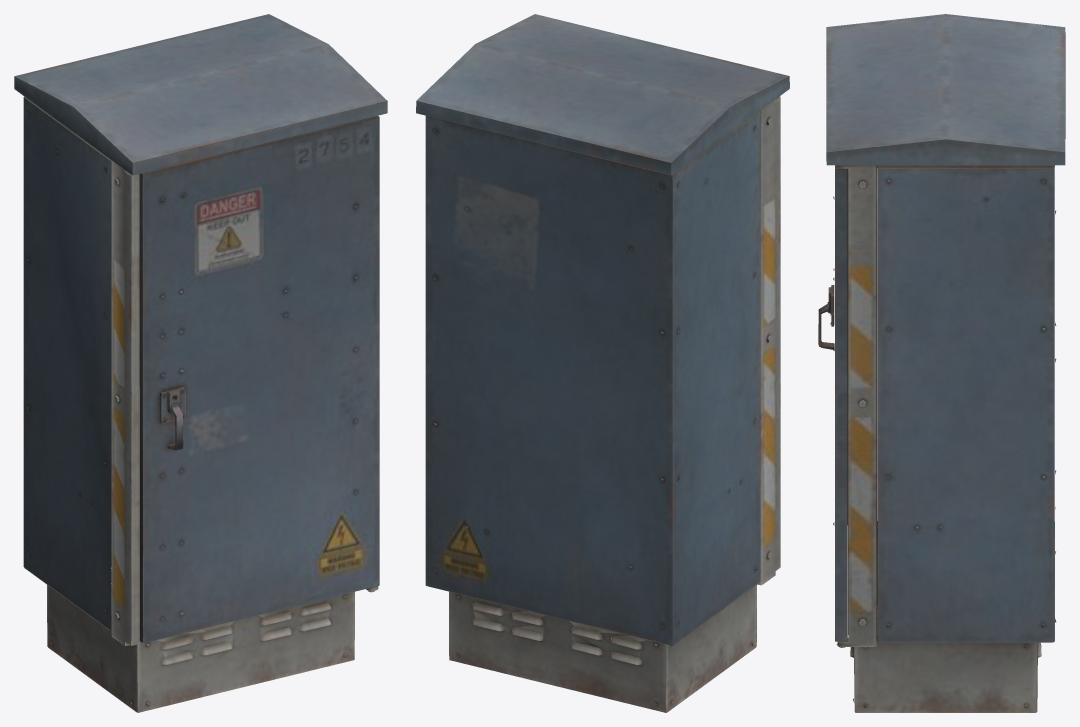
Rendered from utility_box.glb.
The picture shows the model from 3 angles, left to right: view 1: azimuth 30°, elevation 25°; view 2: azimuth 150°, elevation 25°; view 3: azimuth 270°, elevation 25°; orthographic projection.
Parts seen in each view (by area): view 1: utility_box; view 2: utility_box; view 3: utility_box.
Boxes of the visible parts, x1=… form: utility_box: x1=14, y1=14, x2=387, y2=712; utility_box: x1=416, y1=14, x2=789, y2=712; utility_box: x1=818, y1=14, x2=1065, y2=712.
Size of the model in its own units: 0.5178 by 1.12 by 0.4303.
1 material, 1 textured.
